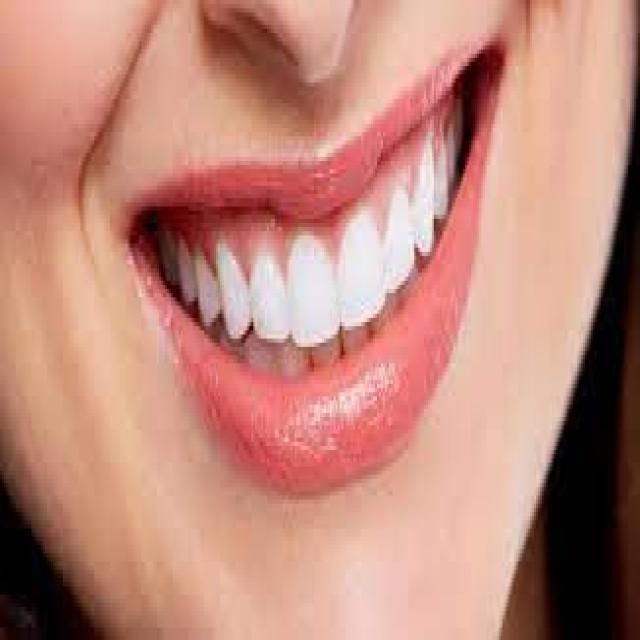tooth: (284, 244, 336, 342), (332, 231, 379, 326), (251, 252, 291, 347), (214, 243, 247, 334), (381, 190, 412, 277), (412, 128, 432, 248), (196, 252, 218, 326), (173, 231, 194, 306), (430, 140, 446, 210), (444, 128, 463, 178)
